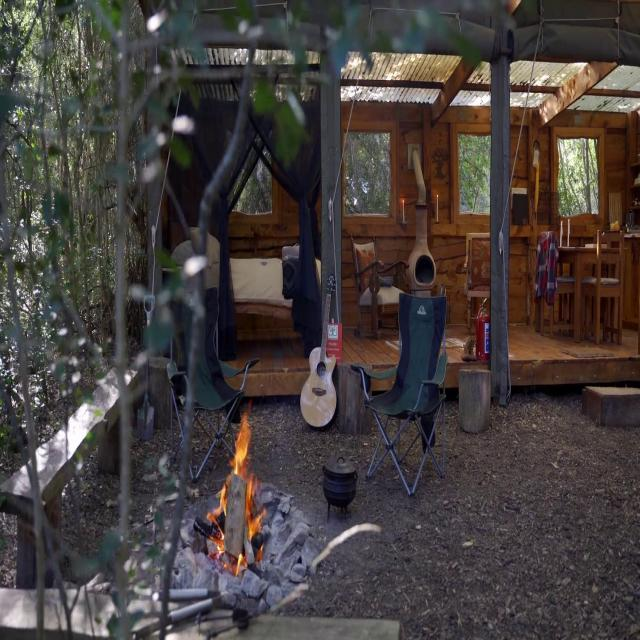Fire: (204, 409, 274, 557)
